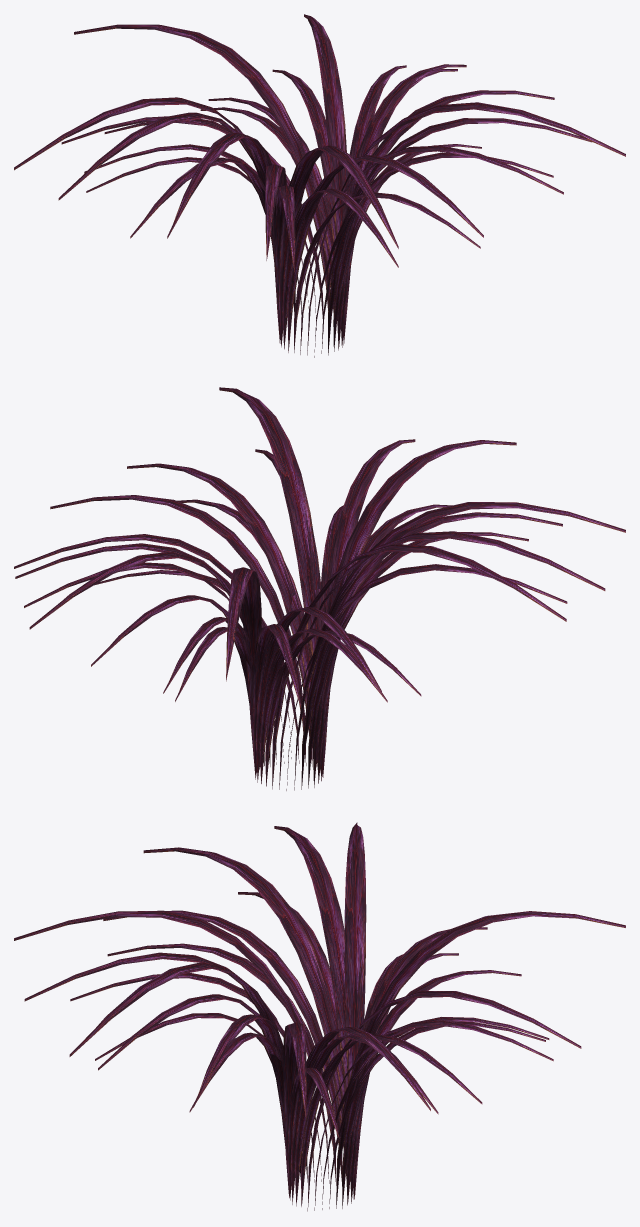
File: finegrass_meadow_07.glb
The picture shows the model from 3 angles, top to bottom: view 1: azimuth 30°, elevation 25°; view 2: azimuth 150°, elevation 25°; view 3: azimuth 270°, elevation 25°; orthographic projection. The views are drawn at different scales.
Parts seen in each view (by area): view 1: export; view 2: export; view 3: export.
Part boxes in pixels (x1,y1,x2,y2): export: (14, 14, 625, 357); export: (14, 387, 625, 790); export: (14, 822, 625, 1211).
Size of the model in its own units: 1.48 by 0.7467 by 1.49.
Materials: 1 (1 with a texture image).
